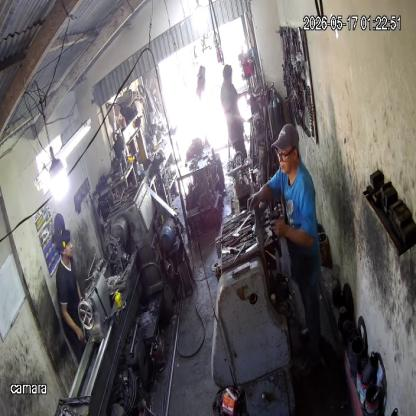lentes: (275, 146, 296, 161)
